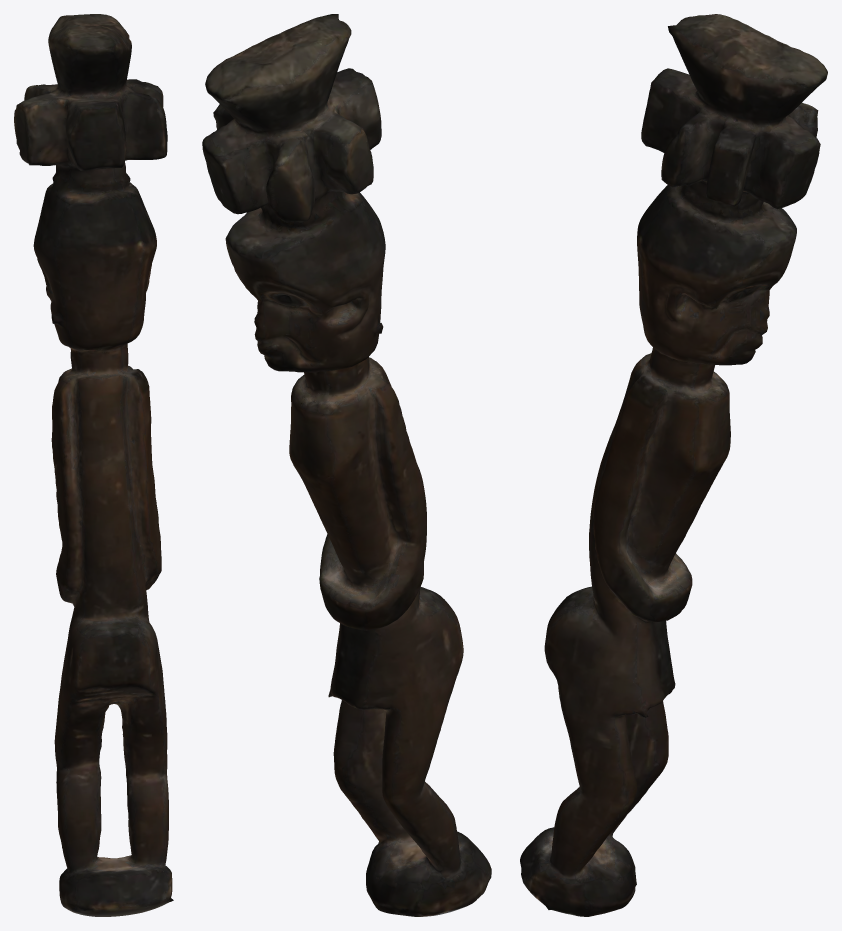
File: preview.glb
3 renders of one model, left to right at view 1: azimuth 30°, elevation 25°; view 2: azimuth 150°, elevation 25°; view 3: azimuth 270°, elevation 25°, orthographic. The views are drawn at different scales.
Parts seen in each view (by area): view 1: Object_2; view 2: Object_2; view 3: Object_2.
Boxes of the visible parts, box(x1,y1,x2,y2) form: Object_2: box(14, 14, 173, 916); Object_2: box(202, 14, 491, 916); Object_2: box(520, 14, 827, 916).
Bounding box in the file's own units: 94.06 × 451 × 140.
Materials: 1 (1 with a texture image).
